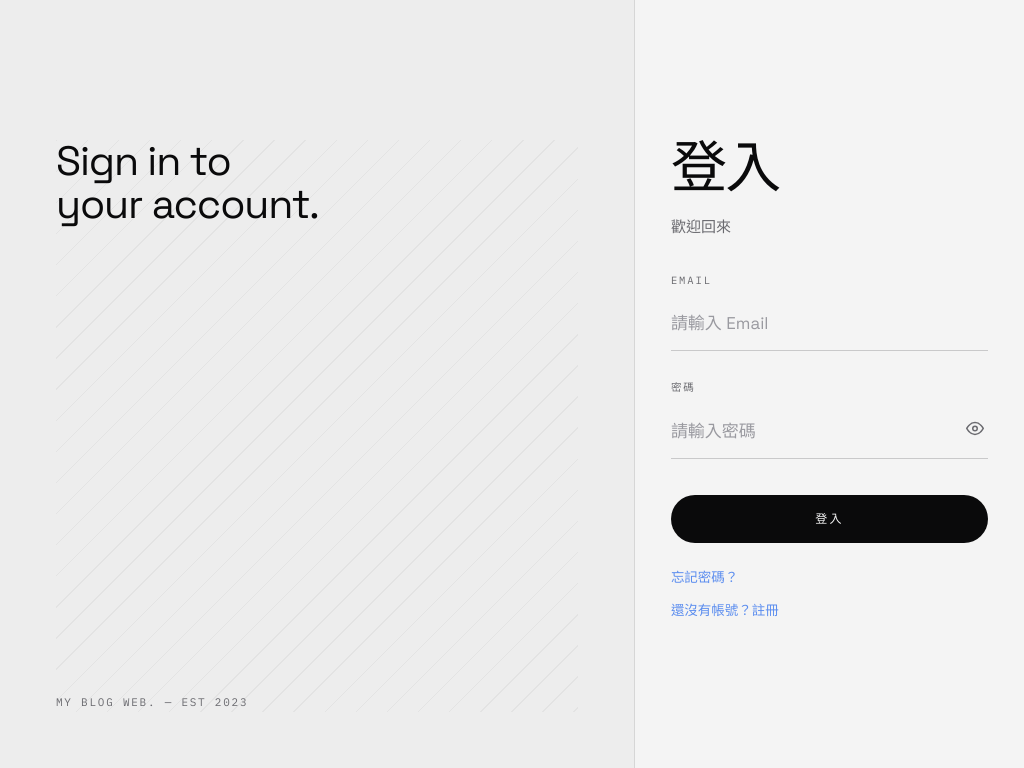
it: LoginView › 空表單提交顯示驗證錯誤
Click the button "登入" at (829, 519), box [671,495,988,543]
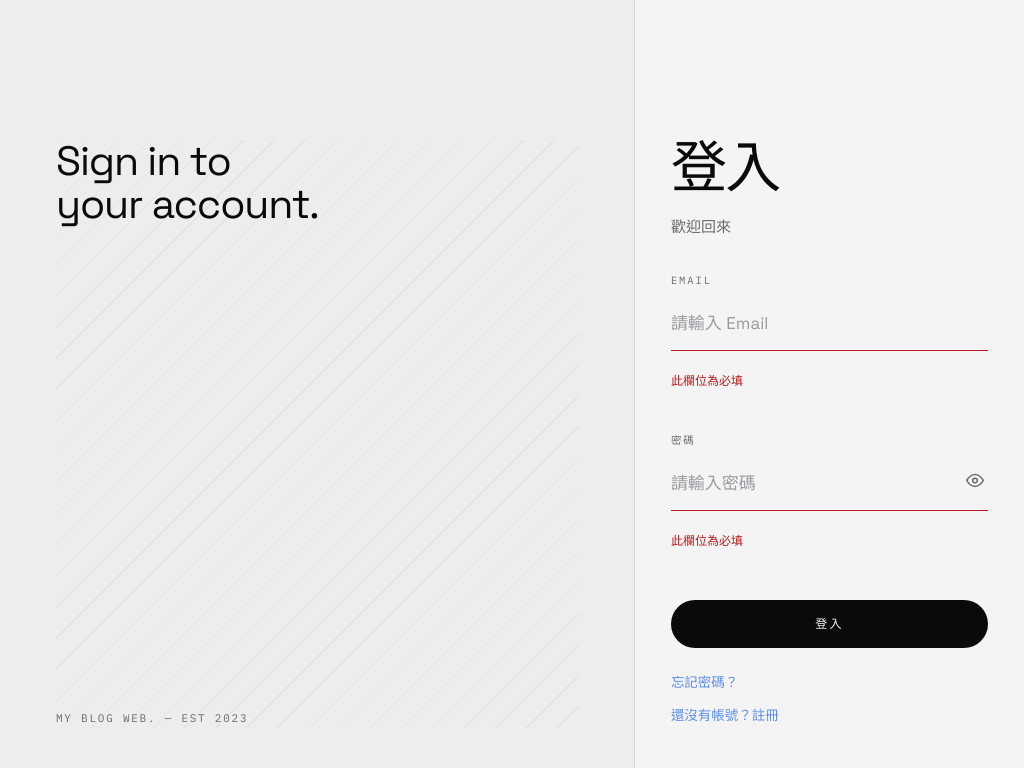
Expected: the text "此欄位為必填" is shown 2 times, [671,373,743,389]; [671,533,743,549]
